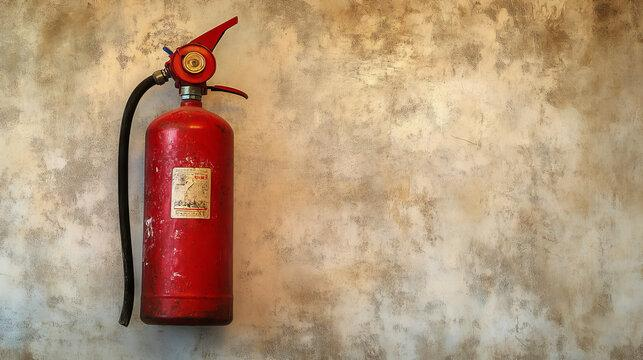wall-mounted: (87, 15, 291, 332)
